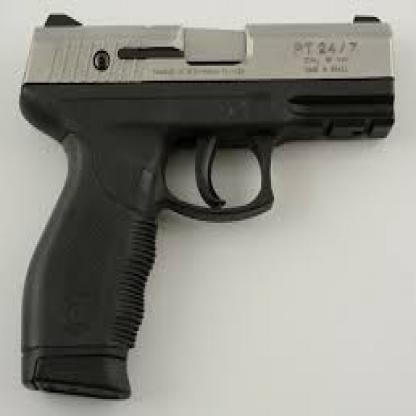Pistol: (11, 4, 396, 390)
